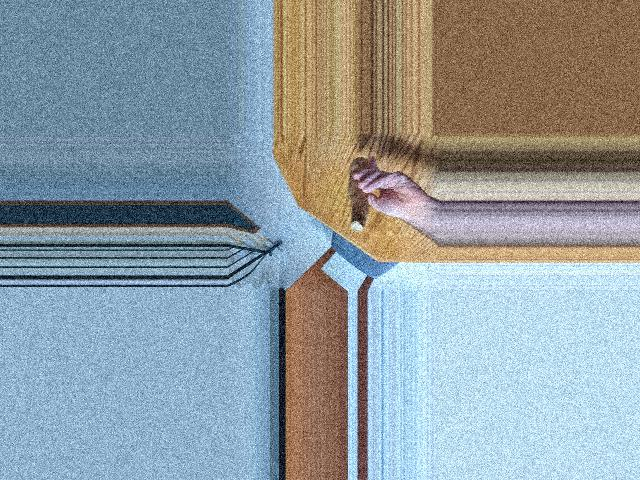sweet_potato: (342, 162, 373, 226)
